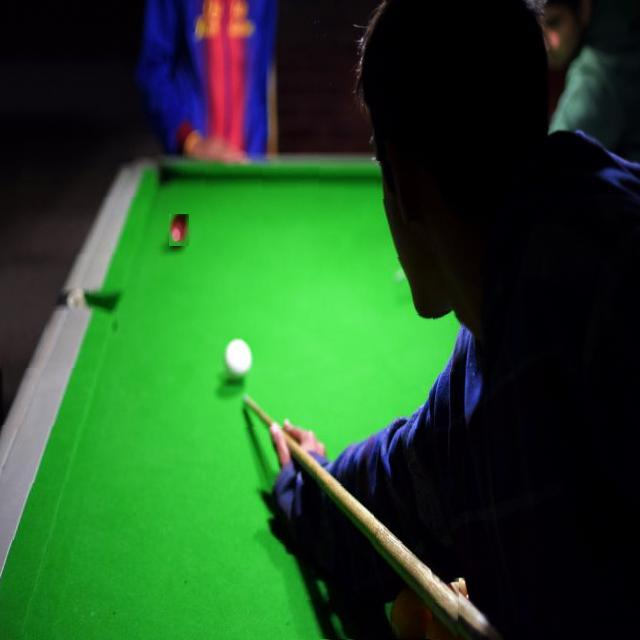Ball: (221, 337, 253, 384), (165, 215, 187, 248)
Billiard table: (0, 156, 464, 640)
